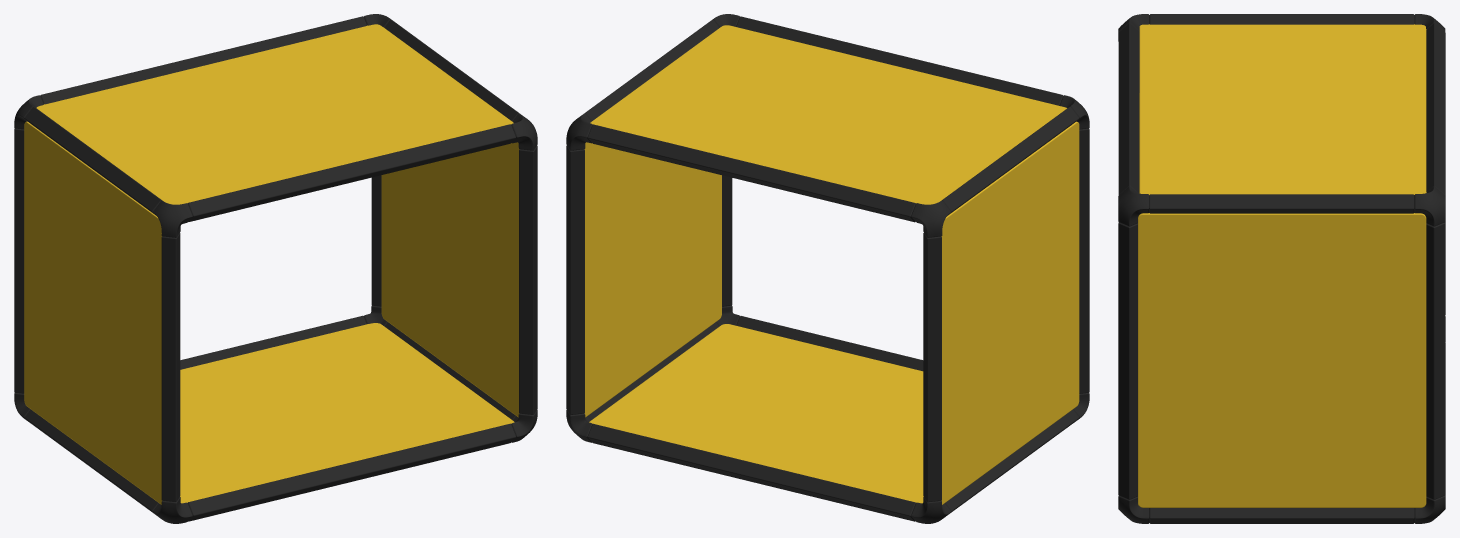
3 renders of one model, left to right at view 1: azimuth 30°, elevation 25°; view 2: azimuth 150°, elevation 25°; view 3: azimuth 270°, elevation 25°, orthographic. The views are drawn at different scales.
Parts seen in each view (by area): view 1: 479x329x374; view 2: 479x329x374; view 3: 479x329x374.
Boxes of the visible parts, left/top/right/bottom form: 479x329x374: left=14, top=14, right=537, bottom=523; 479x329x374: left=566, top=14, right=1089, bottom=523; 479x329x374: left=1118, top=14, right=1445, bottom=523.
Size of the model in its own units: 0.5567 by 0.4516 by 0.4063.
